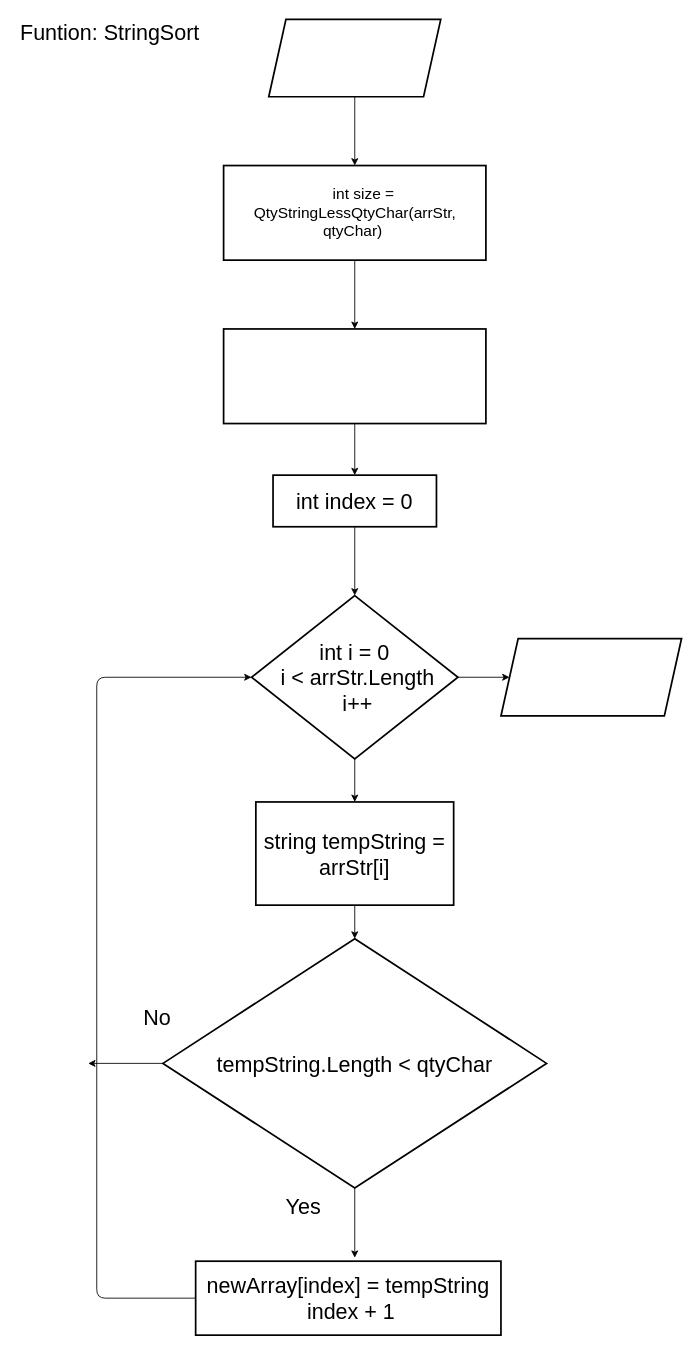
Image size: 697x1350. Some labels were removed from this diagram. Each missing label, with the centre of its shape:
"return newArray" belongs at point (591, 676).
"string[] arrStr int qtyChar" belongs at point (354, 57).
"string[] newArray = new string[size]" belongs at point (354, 376).
